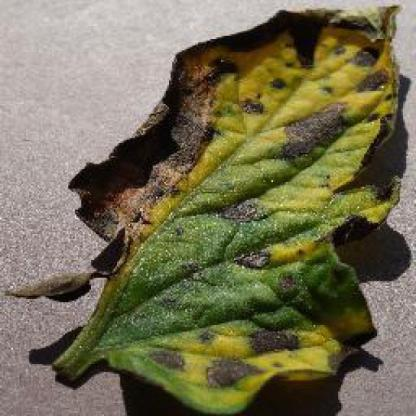Strawberry_Angular_LeafSpot: (85, 92, 211, 232), (280, 93, 347, 157), (248, 324, 306, 356), (202, 356, 260, 388), (144, 349, 186, 377), (233, 244, 272, 269), (221, 198, 270, 217)
